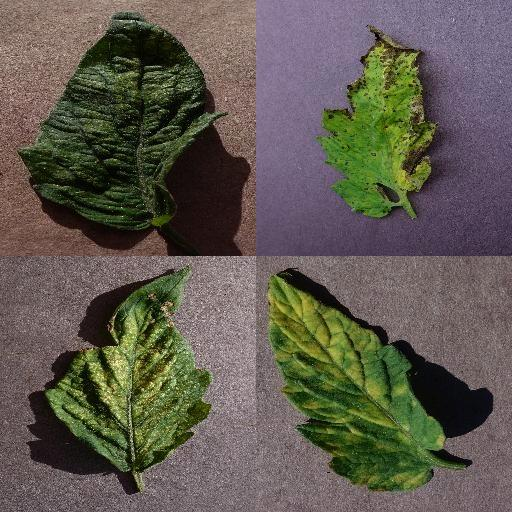Leaf Mold: (269, 271, 447, 491)
Septoria: (323, 25, 435, 219)
Spider Mites: (20, 11, 230, 229), (47, 265, 211, 473)
